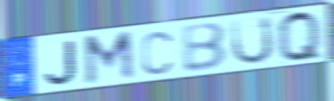B: (180, 21, 228, 74)
C: (140, 29, 174, 77)
J: (43, 39, 79, 87)
M: (81, 28, 137, 87)
Q: (275, 9, 325, 64)
U: (230, 15, 275, 67)
